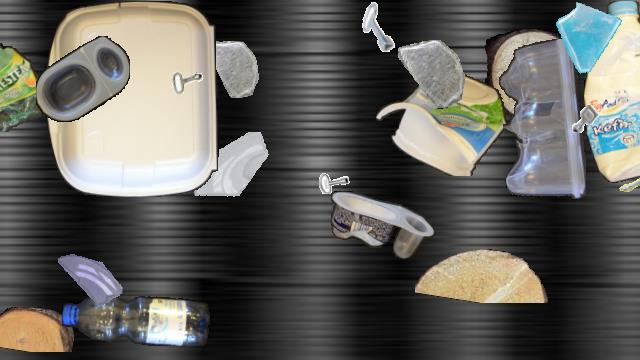glass: (192, 132, 274, 214), (552, 1, 626, 75), (398, 40, 466, 108), (58, 248, 122, 312), (204, 41, 260, 97)
metal: (153, 41, 213, 101), (354, 1, 406, 53), (602, 152, 640, 210), (309, 149, 353, 193), (564, 98, 606, 140)
plastic: (46, 1, 218, 197), (496, 39, 586, 203), (376, 70, 506, 176), (584, 1, 640, 183), (36, 36, 130, 122), (62, 292, 210, 346), (331, 191, 433, 259), (0, 12, 46, 132)
wood: (482, 29, 578, 119), (415, 249, 551, 303), (0, 307, 75, 351)
